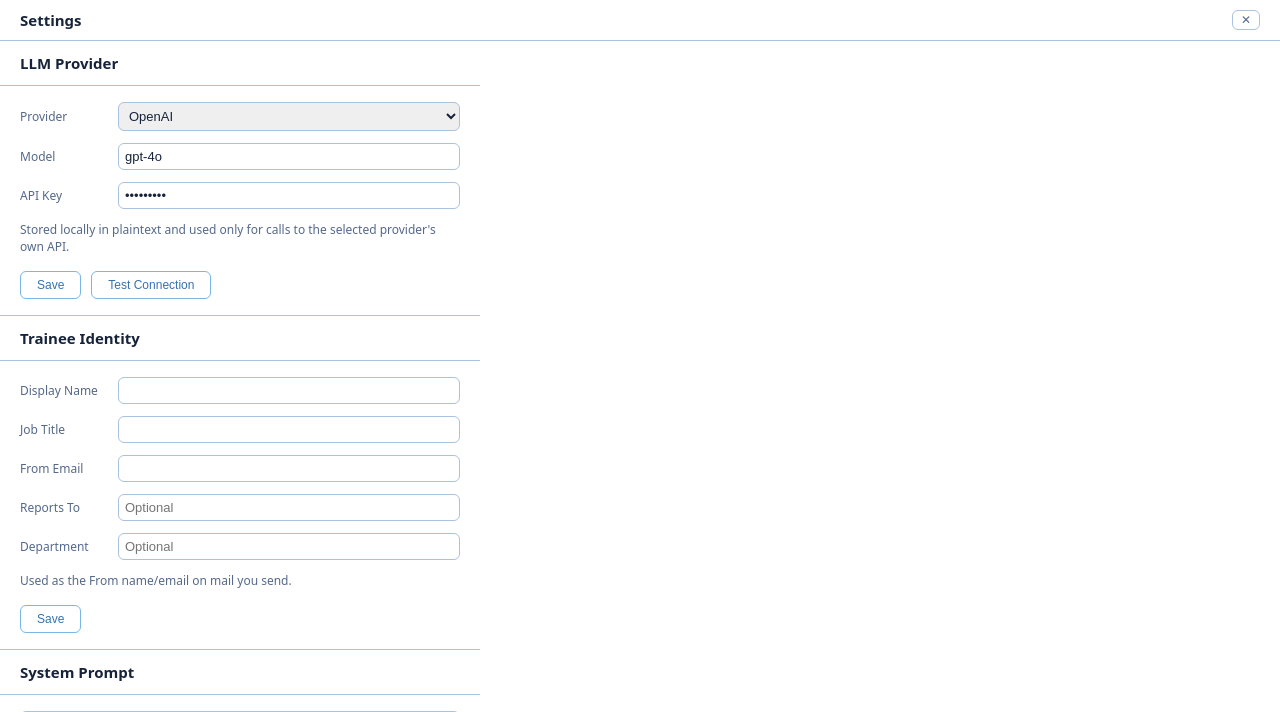
SettingsView › shows a Saved indicator after Save, and clears it on further edits
The image size is (1280, 712).
Expected: the dropdown labelled "Provider" is shown, [118,102,460,131]
Expected: the text "Saved" is not shown
Click the button "Save" below "Model": (51,285) [20,271,81,299]
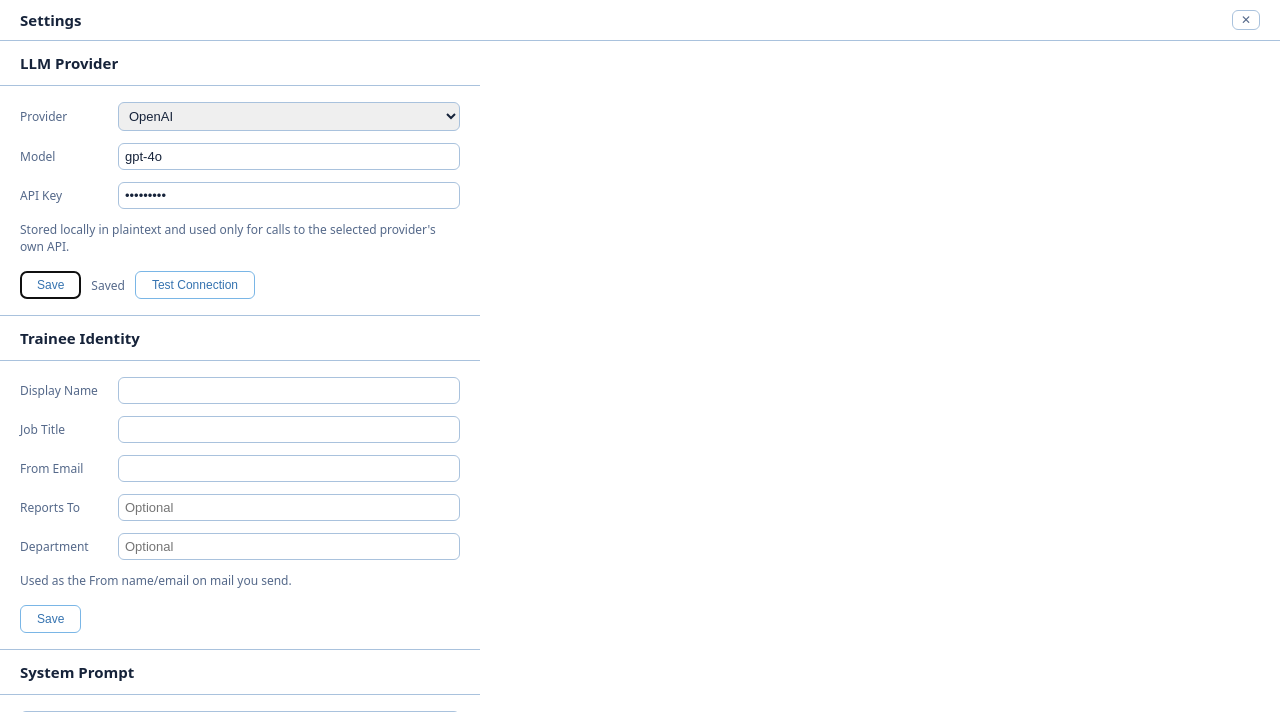
Result: the text "Saved" is shown at [91,276,125,294]
In the field labelled "Model": (289,156) [118,143,460,170], type "x"
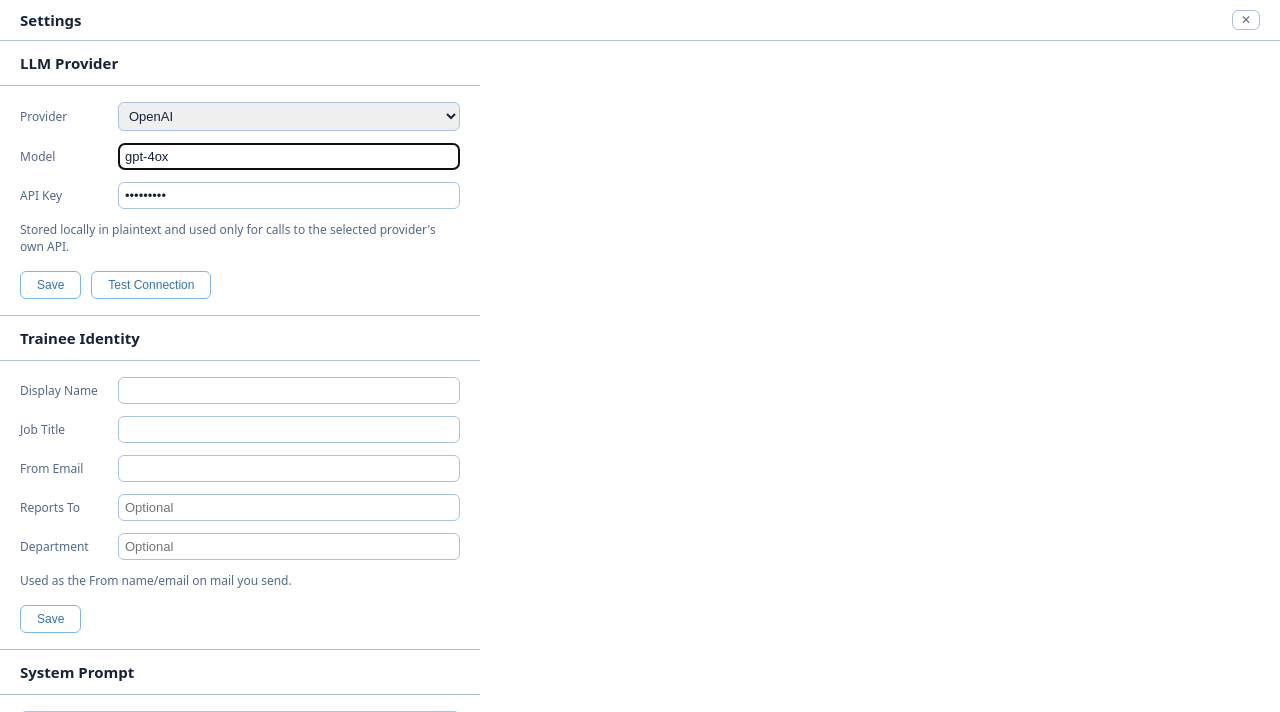
Result: the text "Saved" is gone
